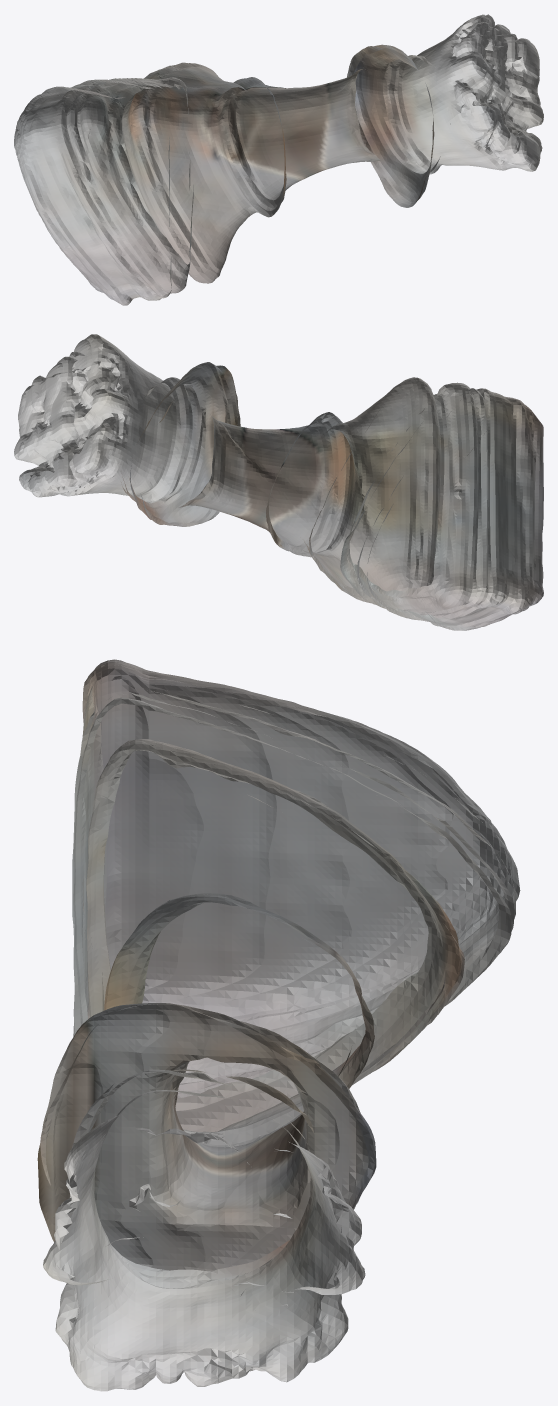
The model's file is rook.glb.
3 views of the same model, one above another, from view 1: azimuth 30°, elevation 25°; view 2: azimuth 150°, elevation 25°; view 3: azimuth 270°, elevation 25° (orthographic). The views are drawn at different scales.
Visible parts, largest first — view 1: world; view 2: world; view 3: world.
Part boxes in pixels (left/top/right/bottom): world: left=14, top=14, right=543, bottom=305; world: left=14, top=334, right=543, bottom=630; world: left=37, top=659, right=520, bottom=1391.
Bounding box in the file's own units: 1.02 × 0.4679 × 0.4778.
